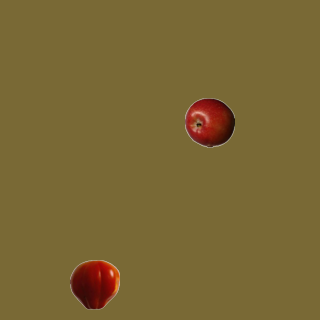Apple Braeburn: (184, 97, 234, 147)
Tomato 1: (69, 259, 119, 309)
